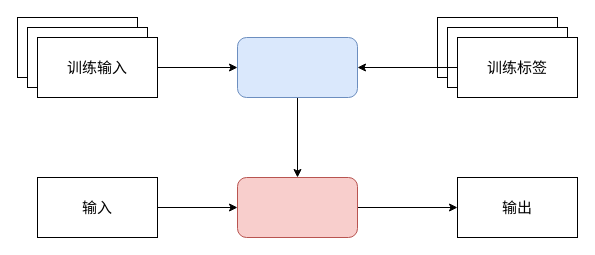
Some shapes in this 595 by 255 pixel diagram are drawn without their labels. The shapes that lost their labels are listed below. From the top down, each one's box as (x1, y1, x2, y2) in pixels, then its label:
(236, 36, 358, 98): 监督学习
(236, 176, 358, 238): 神经网络模型
